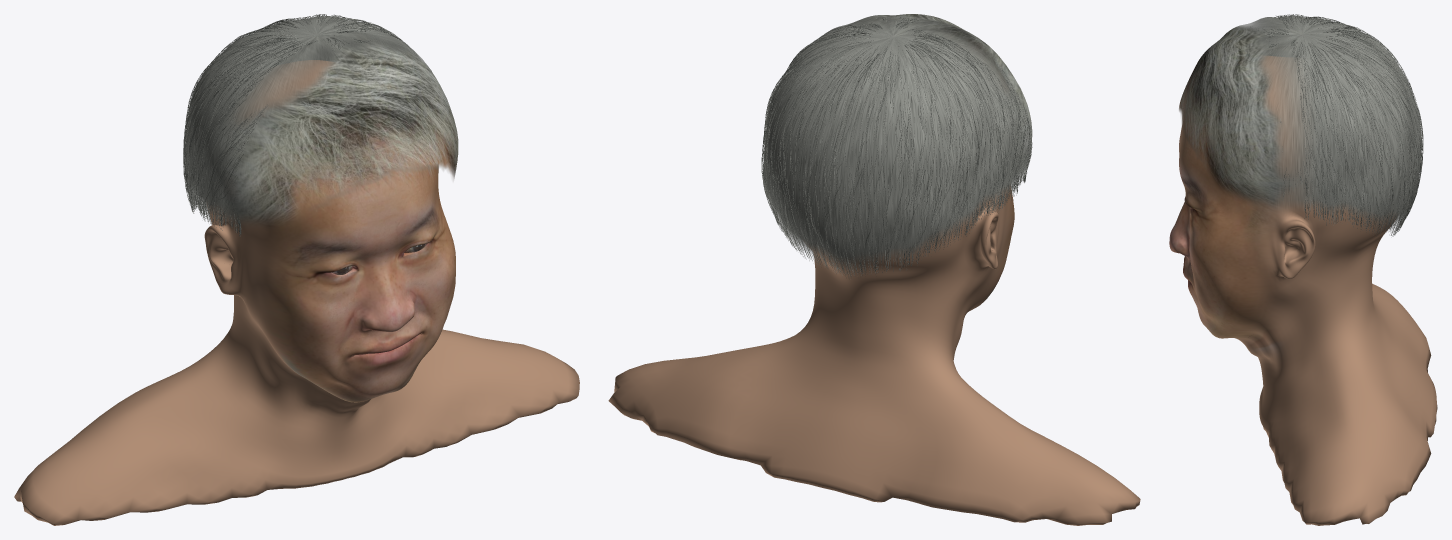
Rendered from director_wu.glb.
3 views of the same model, side by side, from view 1: azimuth 30°, elevation 25°; view 2: azimuth 150°, elevation 25°; view 3: azimuth 270°, elevation 25° (orthographic). The views are drawn at different scales.
Parts seen in each view (by area): view 1: anatomy_head_and_neck, detail_hair_foundation, detail_swept_silver_strands; view 2: anatomy_head_and_neck, detail_hair_foundation, detail_swept_silver_strands; view 3: anatomy_head_and_neck, detail_hair_foundation, detail_swept_silver_strands.
Boxes of the visible parts, x1,y1,x2,y2 form: anatomy_head_and_neck: [14, 60, 579, 525]; detail_hair_foundation: [185, 16, 458, 225]; detail_swept_silver_strands: [183, 14, 431, 236]; anatomy_head_and_neck: [608, 186, 1140, 525]; detail_hair_foundation: [763, 14, 1032, 267]; detail_swept_silver_strands: [761, 16, 1032, 277]; anatomy_head_and_neck: [1169, 56, 1437, 525]; detail_hair_foundation: [1179, 15, 1421, 224]; detail_swept_silver_strands: [1262, 14, 1423, 236].
Size of the model in its own units: 1 by 0.7566 by 0.4791.
Materials: 5 (3 with a texture image).
